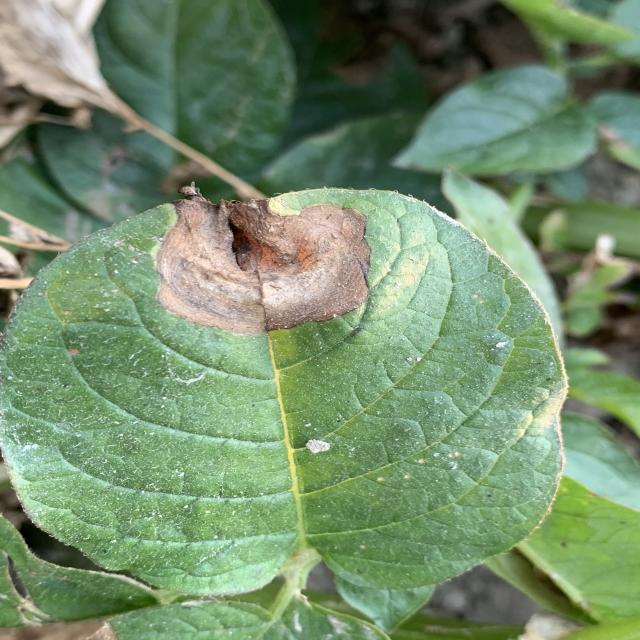lateblight: (157, 186, 370, 335)
